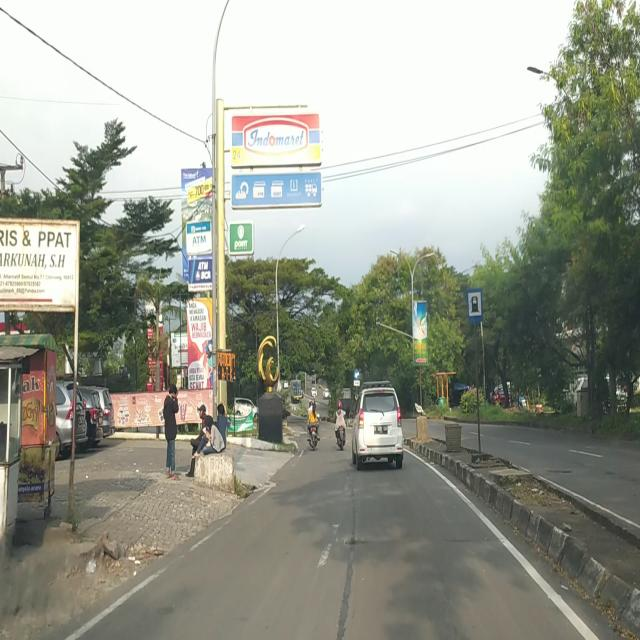Sewer Cover: (344, 535, 496, 547)
